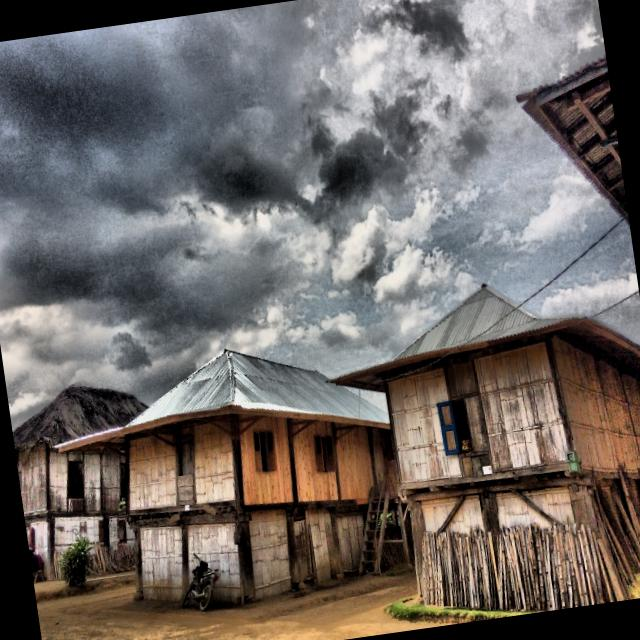roof: (333, 285, 640, 390), (91, 351, 388, 441), (517, 55, 630, 223), (13, 386, 147, 449)
stair: (359, 490, 390, 573)
wall: (475, 343, 567, 472), (553, 338, 640, 471), (389, 369, 462, 482), (241, 417, 293, 504), (189, 523, 243, 602), (250, 510, 292, 598), (130, 436, 177, 510), (294, 422, 338, 501), (194, 424, 235, 504), (141, 526, 184, 601), (50, 450, 101, 511), (336, 426, 374, 504), (307, 507, 337, 583), (18, 443, 48, 514), (497, 491, 553, 526), (55, 516, 104, 555), (523, 487, 574, 523), (337, 513, 365, 572), (421, 496, 461, 534), (447, 495, 484, 534), (103, 450, 125, 512), (446, 360, 477, 398), (31, 521, 47, 577), (462, 454, 491, 477), (109, 516, 118, 550), (126, 522, 135, 543)
window: (437, 395, 487, 455), (252, 429, 278, 472), (314, 435, 335, 472), (68, 461, 83, 498), (179, 440, 194, 475), (117, 519, 127, 545), (119, 462, 125, 501)
